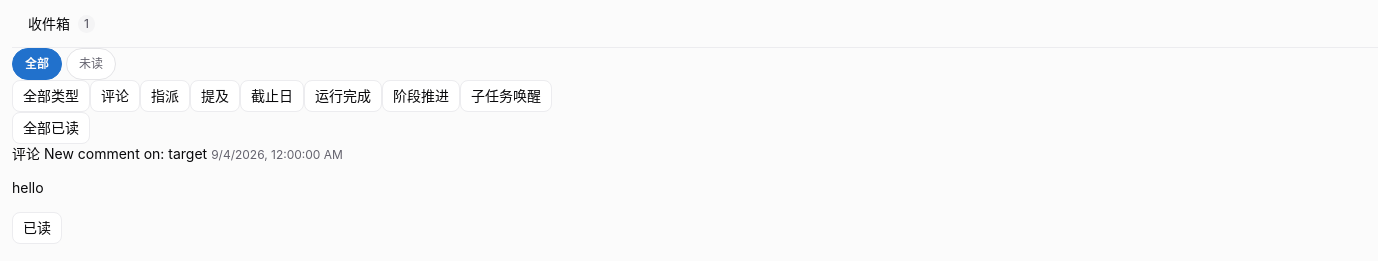
Test: NotificationsPage › marks all notifications read
Expected: the list item with test id "notification-n1" is shown, [12,145,343,244]
Click the button with test id "mark-all-read" at (51,128), box [12,112,90,144]
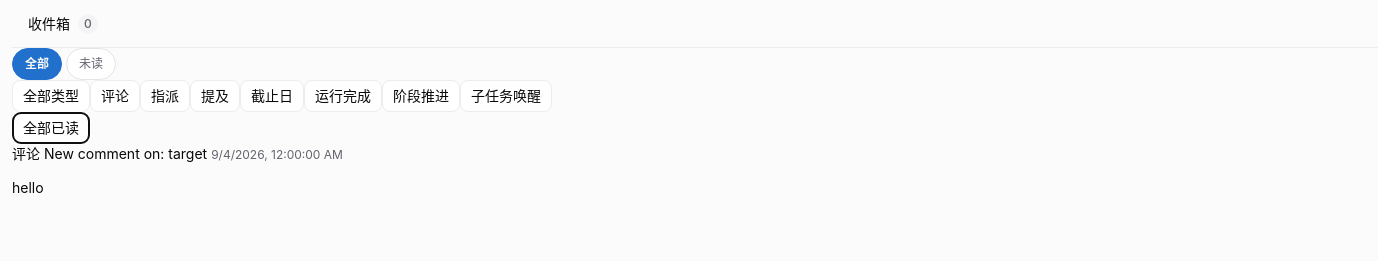
Expected: the text with test id "unread-count" reads "0", [84,16,92,30]
